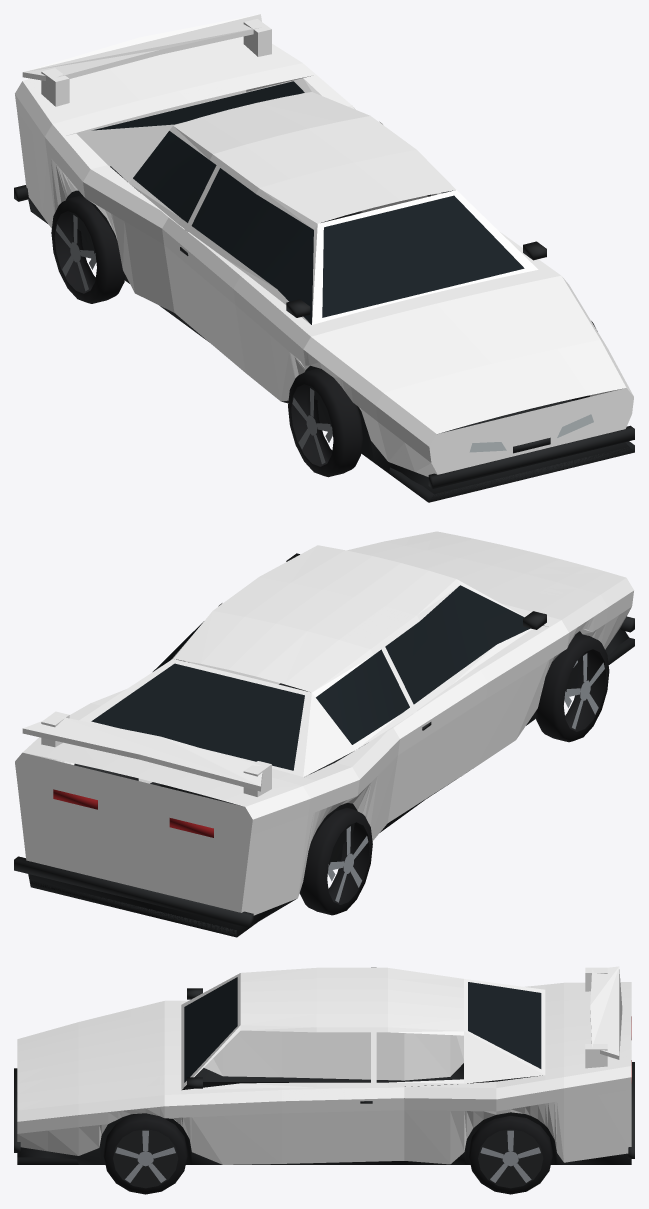
File: ashby_condor.glb
3 renders of one model, top to bottom at view 1: azimuth 30°, elevation 25°; view 2: azimuth 150°, elevation 25°; view 3: azimuth 270°, elevation 25°, orthographic. The views are drawn at different scales.
Visible parts, largest first — view 1: Body_Paint, Body_Details, Mount_FrontLeft_Wheel_Details, Mount_RearLeft_Wheel_Details; view 2: Body_Paint, Body_Details, Mount_FrontLeft_Wheel_Details, Mount_RearLeft_Wheel_Details; view 3: Body_Paint, Body_Details, Mount_FrontRight_Wheel_Details, Mount_RearRight_Wheel_Details.
Boxes of the visible parts, x1,y1,x2,y2 form: Body_Paint: (15,14,633,476); Body_Details: (14,81,634,502); Mount_FrontLeft_Wheel_Details: (288,368,362,477); Mount_RearLeft_Wheel_Details: (51,195,125,303); Body_Paint: (15,531,633,915); Body_Details: (14,553,634,937); Mount_FrontLeft_Wheel_Details: (535,633,609,742); Mount_RearLeft_Wheel_Details: (299,807,372,915); Body_Paint: (17,966,631,1164); Body_Details: (14,977,634,1164); Mount_FrontRight_Wheel_Details: (103,1113,187,1194); Mount_RearRight_Wheel_Details: (468,1115,552,1194).
Bounding box in the file's own units: 2 × 1.34 × 5.03.
2 materials, 1 textured.
